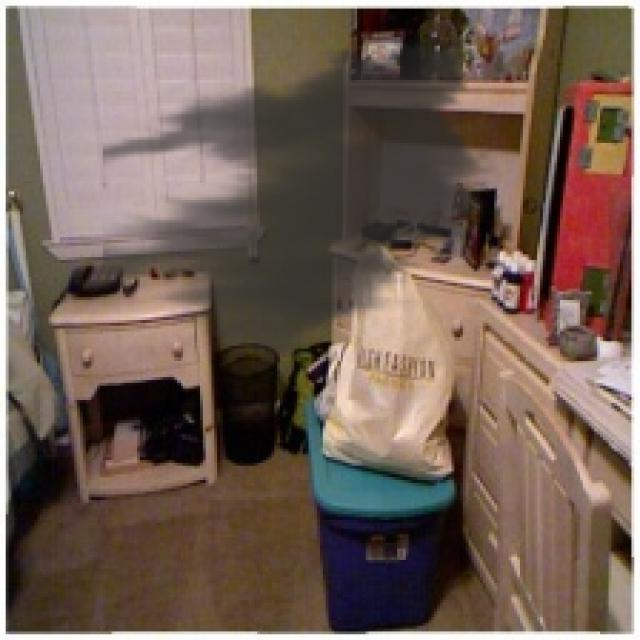Smoke: (103, 22, 503, 368)
